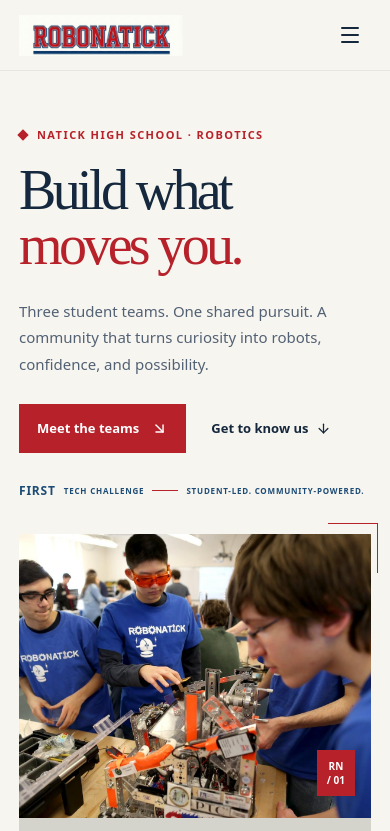
Test case: RoboNatick site › introduces all three teams, links the newsletter signup, and offers mobile navigation
This screenshot has width=390, height=831.
Expected: the heading named "Build what moves you." is shown, [19, 159, 241, 276]
Click the button named "Open navigation menu": coordinates (350, 35) [329, 14, 371, 56]
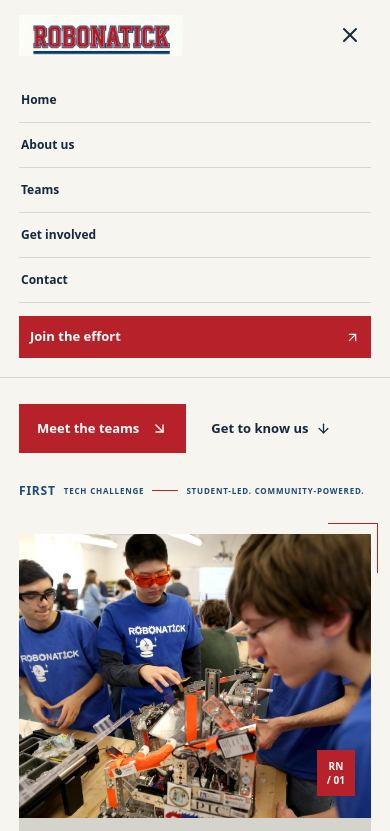
Expected: the button named "Open navigation menu" is expanded, [329, 14, 371, 56]
